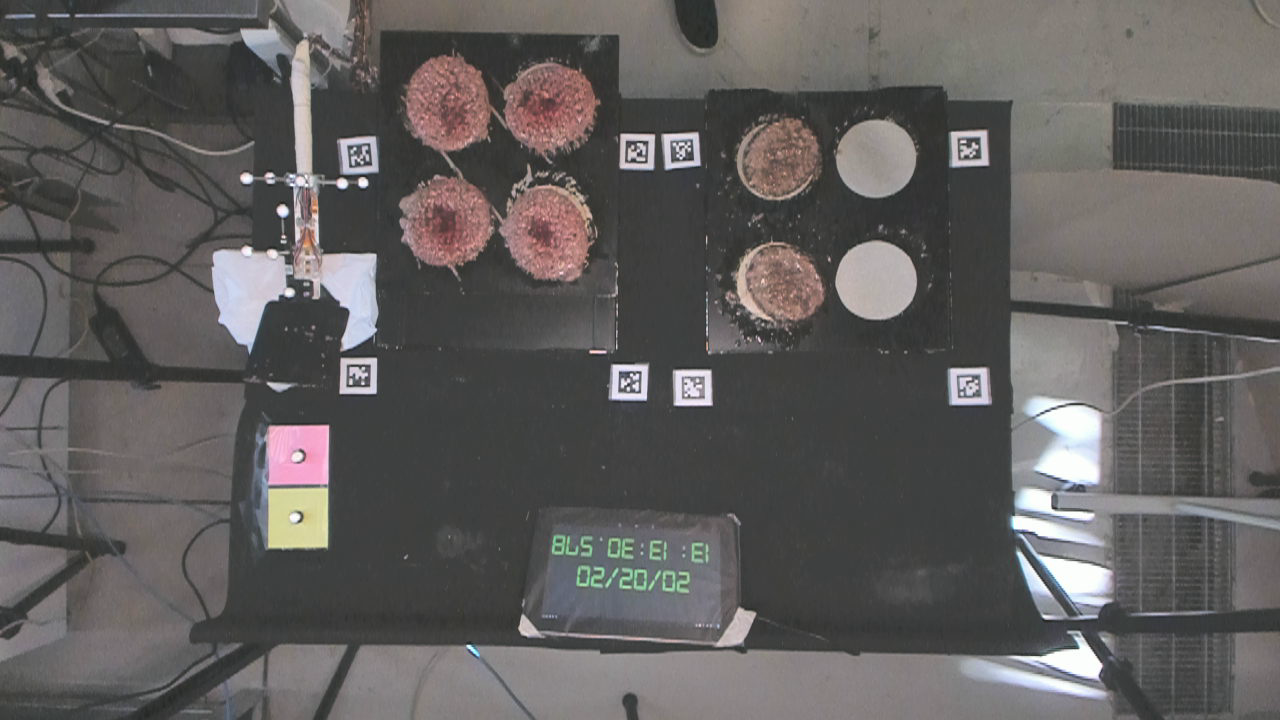hamburger: (503, 64, 598, 151), (503, 187, 590, 280), (403, 183, 491, 269), (407, 55, 485, 150), (750, 242, 825, 331), (745, 116, 822, 198)
marker: (266, 425, 329, 487)
